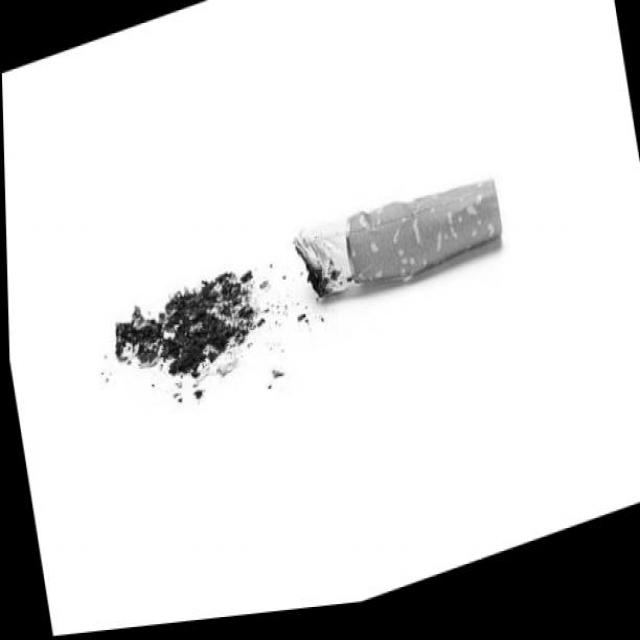cigarette: (287, 173, 504, 324)
